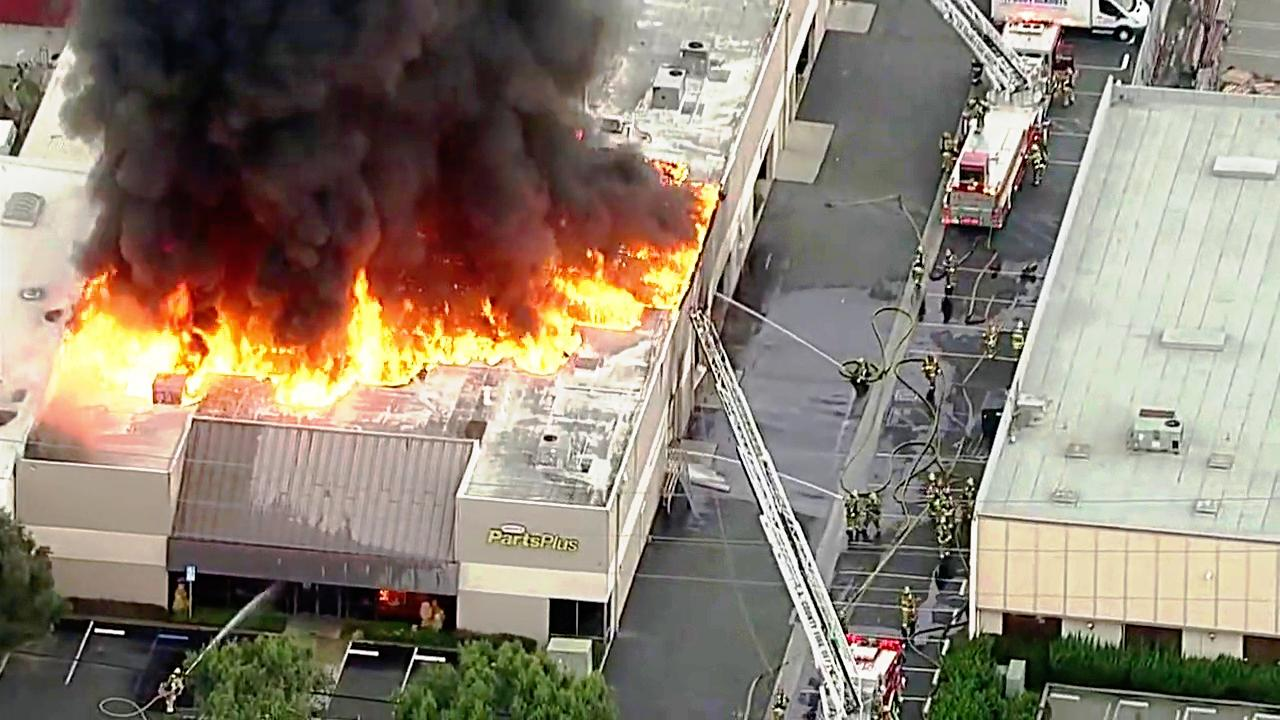fire: (79, 270, 214, 410), (393, 302, 572, 366), (201, 314, 339, 395), (335, 277, 404, 395), (569, 247, 639, 338)
smoke: (110, 0, 380, 253), (402, 1, 579, 229)
